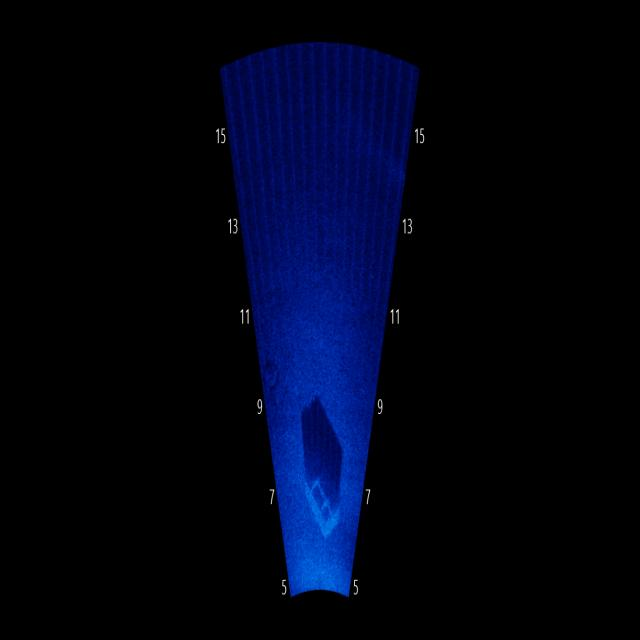square: (300, 470, 344, 541)
